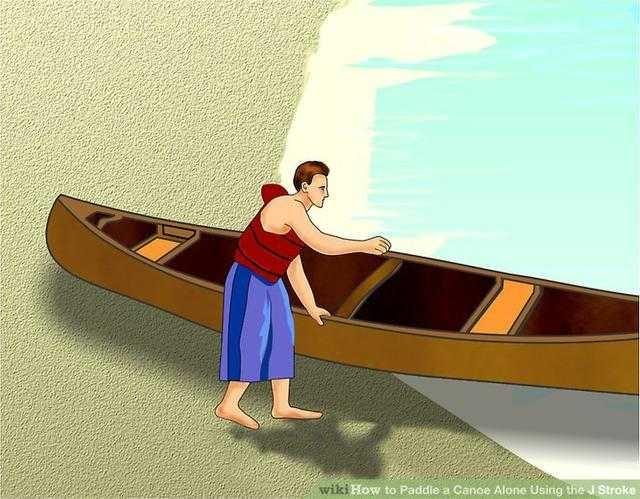kayak: (28, 197, 640, 455)
